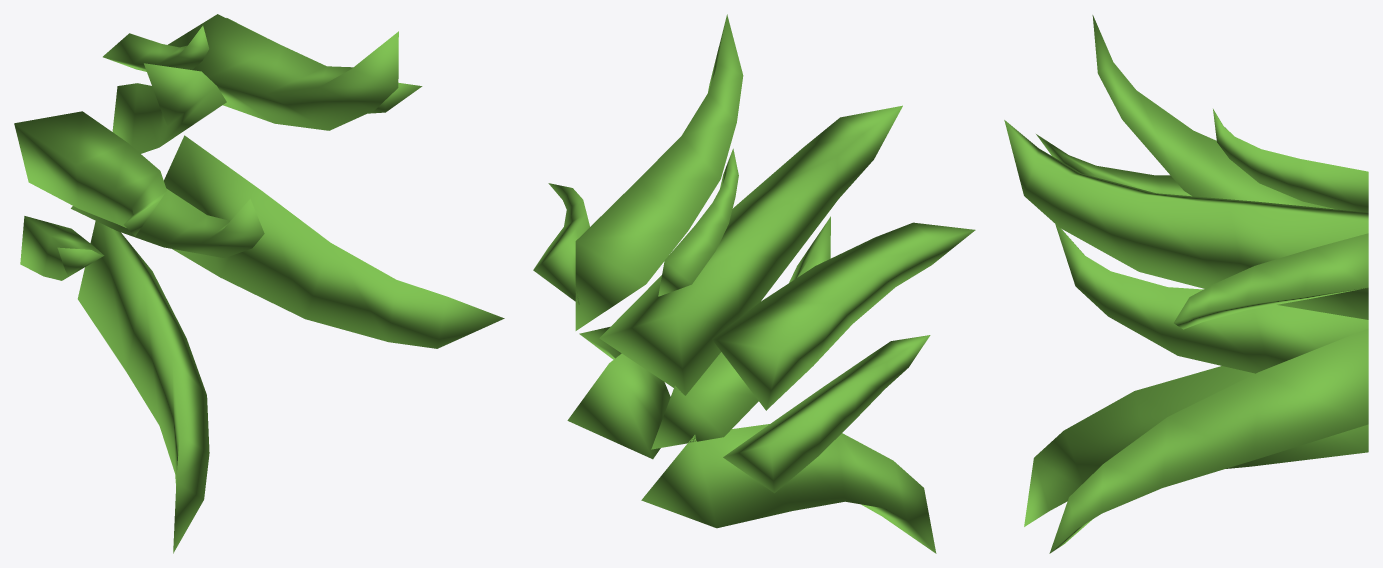
File: grass_multiple_blades.glb
3 renders of one model, left to right at view 1: azimuth 30°, elevation 25°; view 2: azimuth 150°, elevation 25°; view 3: azimuth 270°, elevation 25°, orthographic. The views are drawn at different scales.
Parts seen in each view (by area): view 1: multiple-grass; view 2: multiple-grass; view 3: multiple-grass.
Part boxes in pixels (x1,y1,x2,y2): multiple-grass: (14,14,504,553); multiple-grass: (533,14,975,553); multiple-grass: (1004,15,1368,553).
Bounding box in the file's own units: 3.48 × 3.98 × 2.51.
